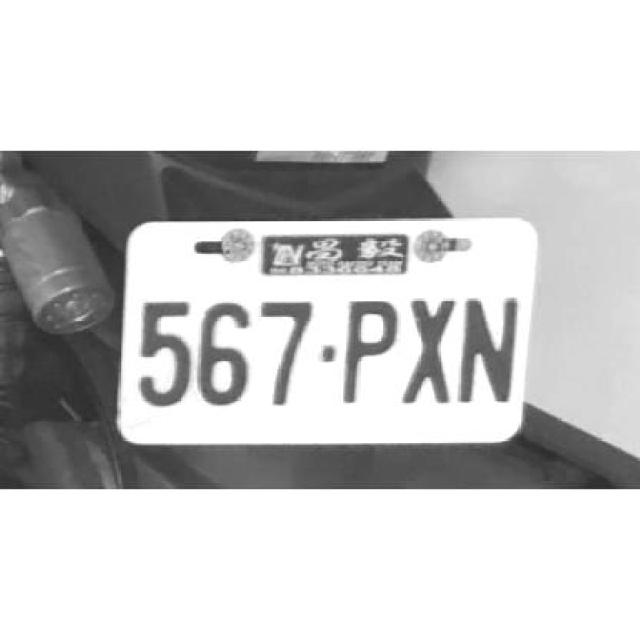-: (320, 346, 337, 363)
5: (136, 297, 196, 405)
6: (197, 300, 254, 403)
7: (258, 296, 316, 404)
N: (457, 294, 518, 408)
P: (341, 292, 397, 408)
X: (400, 294, 455, 408)
